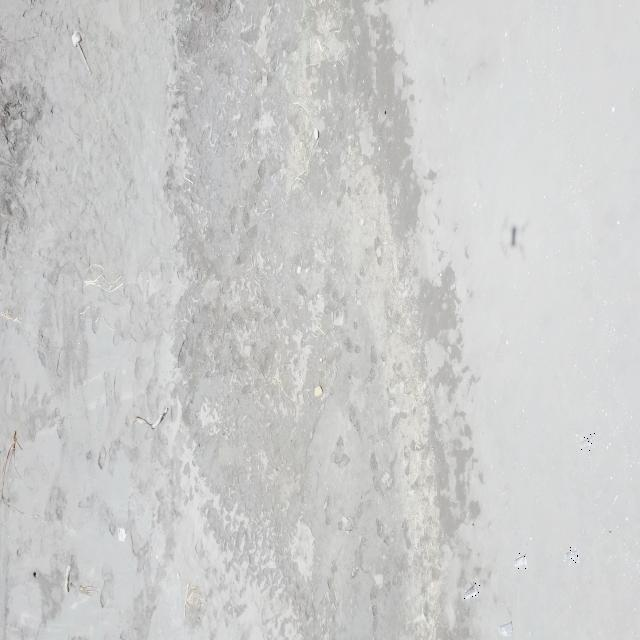takeaway-cup: (579, 434, 596, 454), (464, 582, 480, 602), (564, 547, 580, 565), (498, 621, 513, 640), (514, 553, 530, 569)
